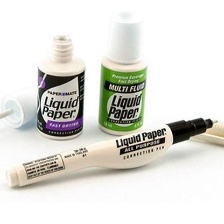correction_fluid: (3, 114, 220, 190), (96, 10, 149, 139), (33, 33, 87, 142)
